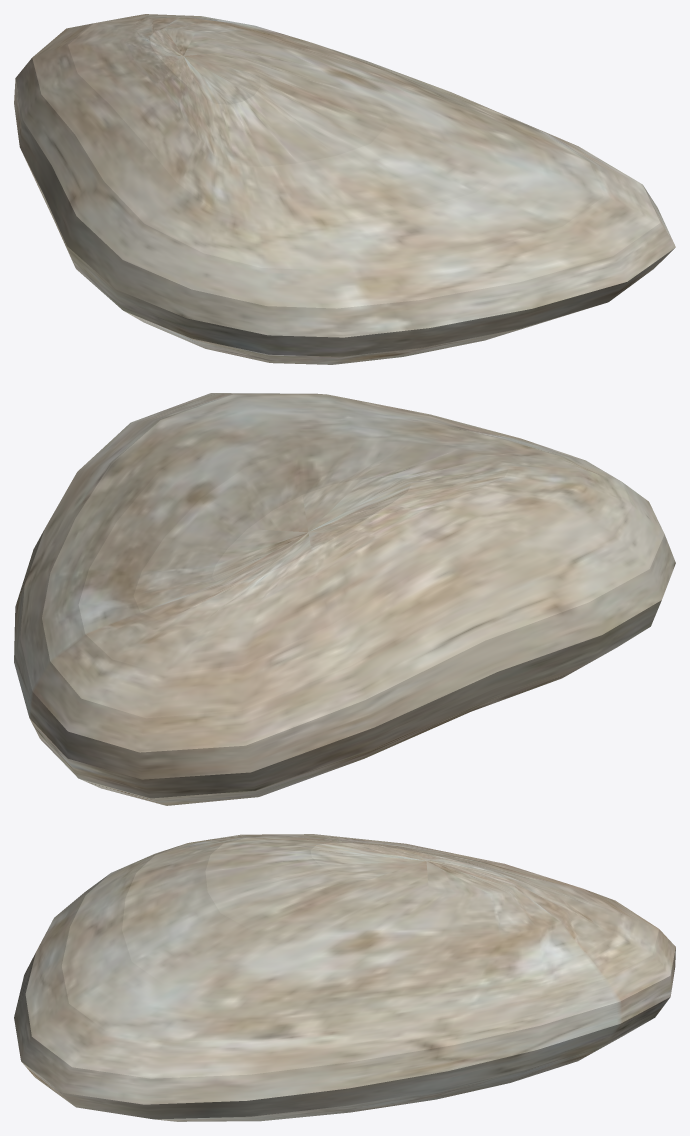
File: Rock_B.fbx
The picture shows the model from 3 angles, top to bottom: view 1: azimuth 30°, elevation 25°; view 2: azimuth 150°, elevation 25°; view 3: azimuth 270°, elevation 25°; orthographic projection. The views are drawn at different scales.
Parts seen in each view (by area): view 1: pSphere1; view 2: pSphere1; view 3: pSphere1.
Part boxes in pixels (left/top/right/bottom): pSphere1: left=14, top=14, right=675, bottom=364; pSphere1: left=14, top=393, right=675, bottom=805; pSphere1: left=14, top=834, right=675, bottom=1121.
Size of the model in its own units: 4.35 by 1.62 by 5.46.
1 material, 1 textured.
